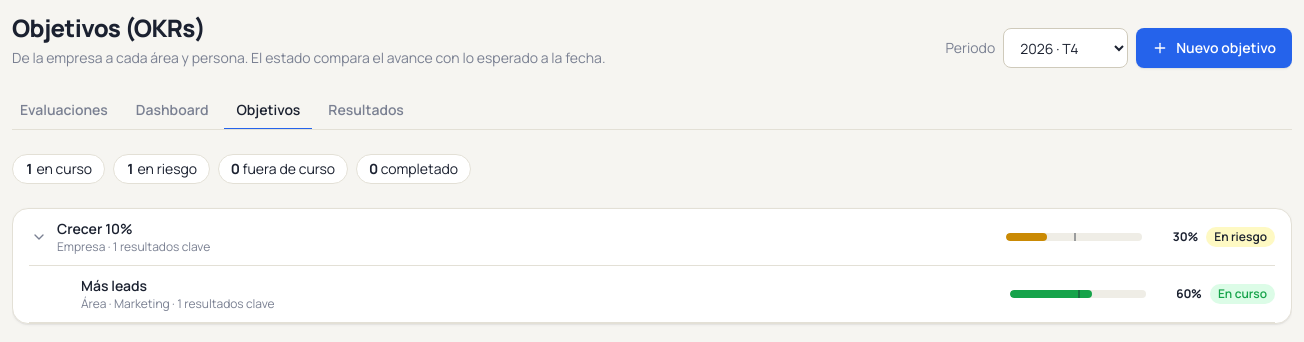
Test: OkrsPage › shows the cascade with status, progress vs expected, and collapses children
Check: the text "Crecer 10%" is shown, box [57, 219, 133, 238]
Check: the text "Más leads" is shown, box [81, 276, 147, 295]
Click the button named "Ocultar objetivos de Crecer 10%" at (39, 237), box [29, 227, 49, 247]
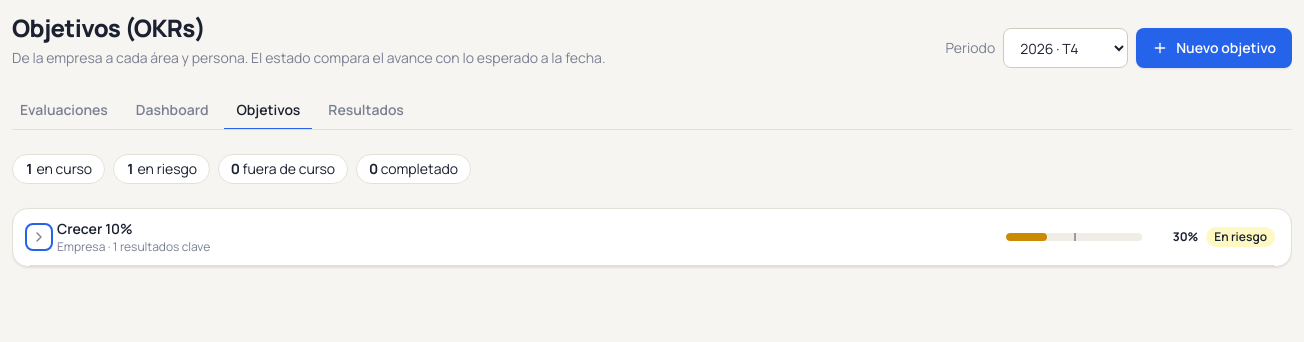
Check: the button "Nuevo objetivo" is shown, box [1136, 28, 1292, 68]
Check: the button "Más leads" is gone
